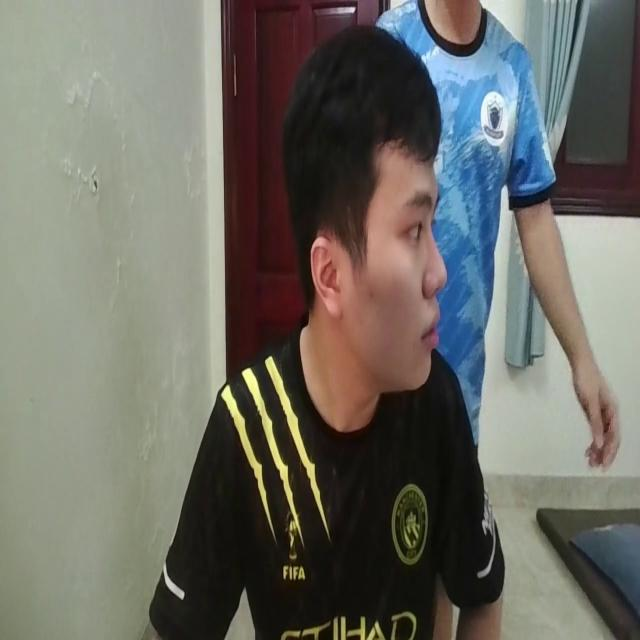extra_person: (386, 0, 622, 481)
student: (136, 28, 506, 640)
